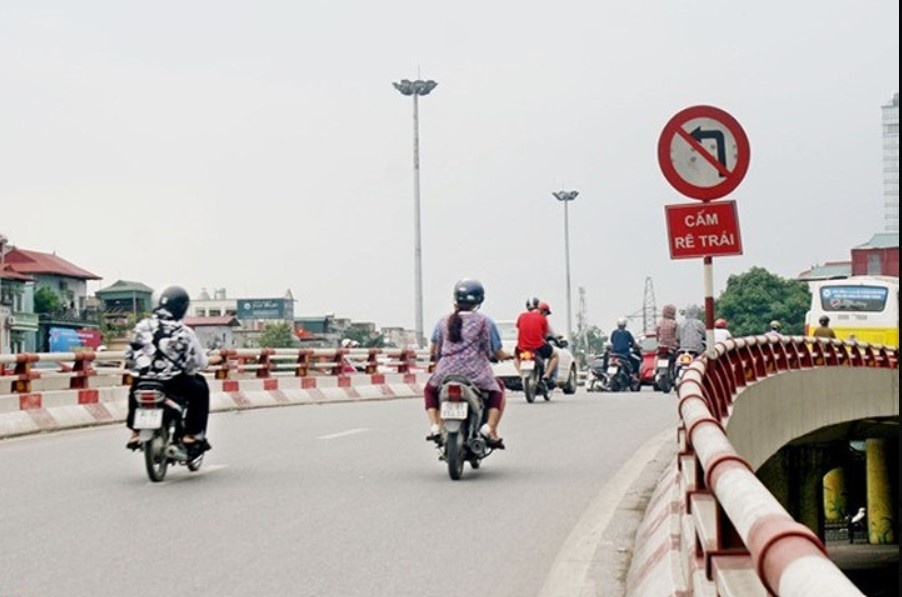Bien khac: (656, 100, 752, 200)
